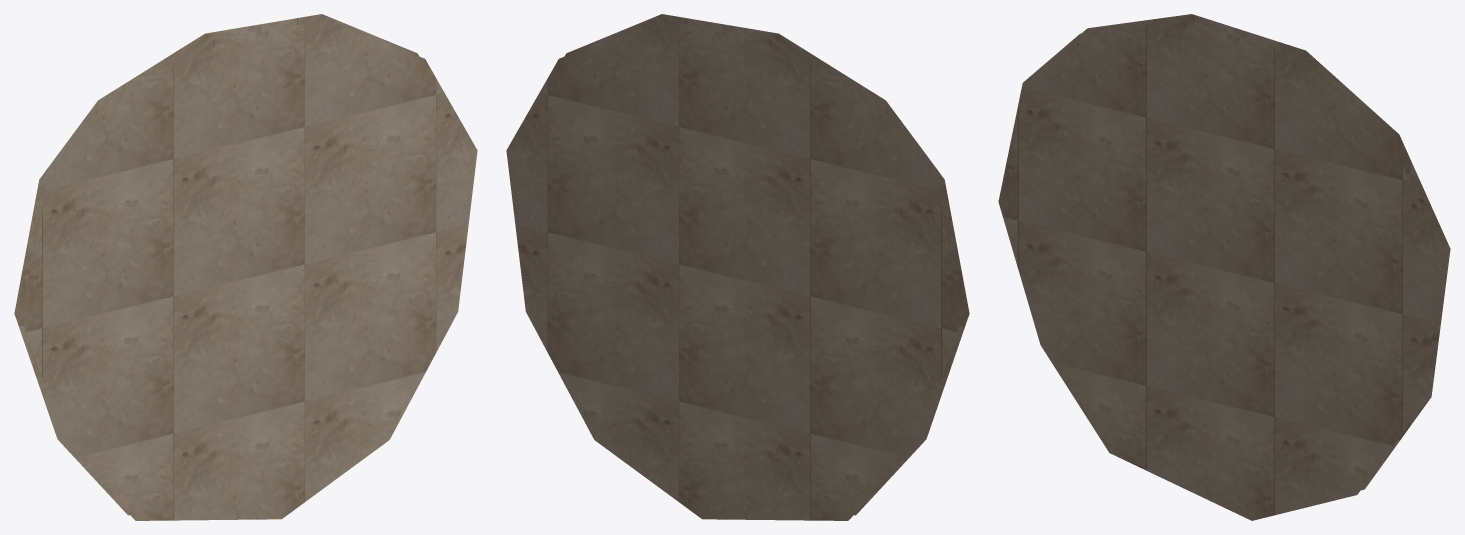
The model's file is floor_14.obj.
3 renders of one model, left to right at view 1: azimuth 30°, elevation 25°; view 2: azimuth 150°, elevation 25°; view 3: azimuth 330°, elevation 25°, orthographic. The views are drawn at different scales.
Parts seen in each view (by area): view 1: floor_14; view 2: floor_14; view 3: floor_14.
Boxes of the visible parts, left/top/right/bottom form: floor_14: left=14, top=14, right=477, bottom=520; floor_14: left=506, top=14, right=969, bottom=520; floor_14: left=998, top=14, right=1450, bottom=520.
Bounding box in the file's own units: 3.47 × 3.62 × 0.1.
Materials: 1 (1 with a texture image).
